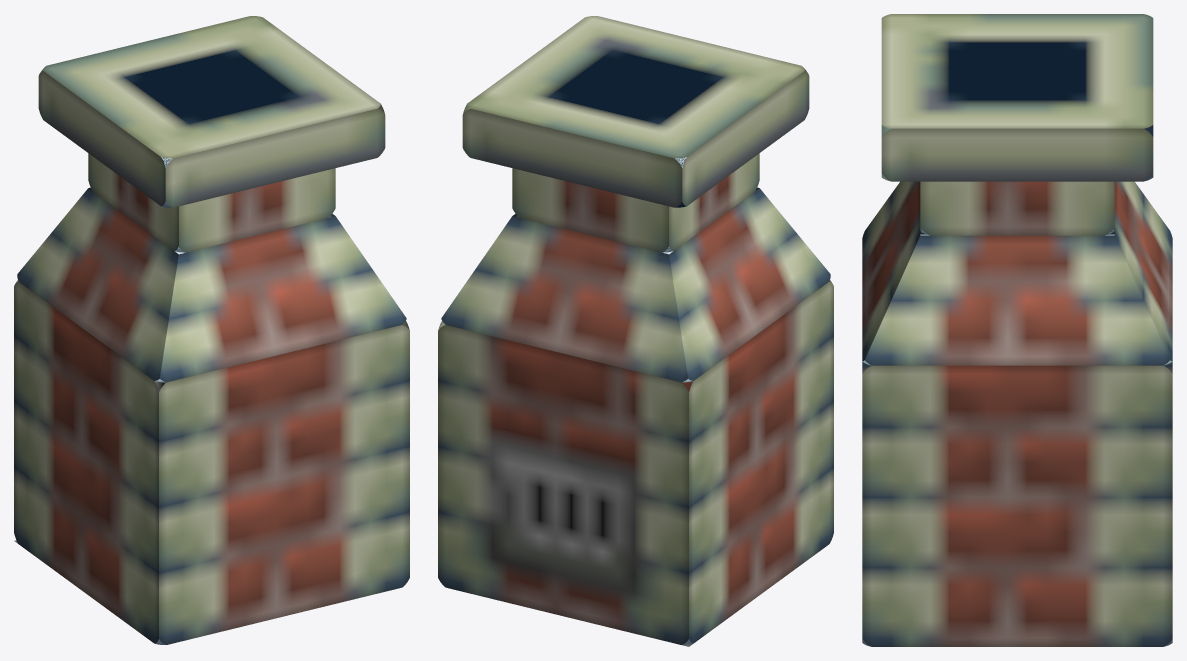
Rendered from smeltery_full.obj.
3 renders of one model, left to right at view 1: azimuth 30°, elevation 25°; view 2: azimuth 150°, elevation 25°; view 3: azimuth 270°, elevation 25°, orthographic. The views are drawn at different scales.
Visible parts, largest first — view 1: cube, cube.002, cuboid, cube.001; view 2: cube, cube.002, cuboid, cube.001; view 3: cube, cube.002, cuboid, cube.001.
Boxes of the visible parts, bbox=[...] form: cube: bbox=[14, 251, 409, 644]; cube.002: bbox=[38, 16, 385, 207]; cuboid: bbox=[17, 187, 406, 382]; cube.001: bbox=[88, 153, 335, 252]; cube: bbox=[438, 251, 833, 646]; cube.002: bbox=[462, 16, 809, 207]; cuboid: bbox=[441, 187, 830, 382]; cube.001: bbox=[512, 153, 759, 252]; cube: bbox=[862, 234, 1172, 646]; cube.002: bbox=[881, 14, 1153, 181]; cuboid: bbox=[862, 181, 1172, 365]; cube.001: bbox=[920, 181, 1114, 235].
Bounding box in the file's own units: 1 × 1.81 × 1.
